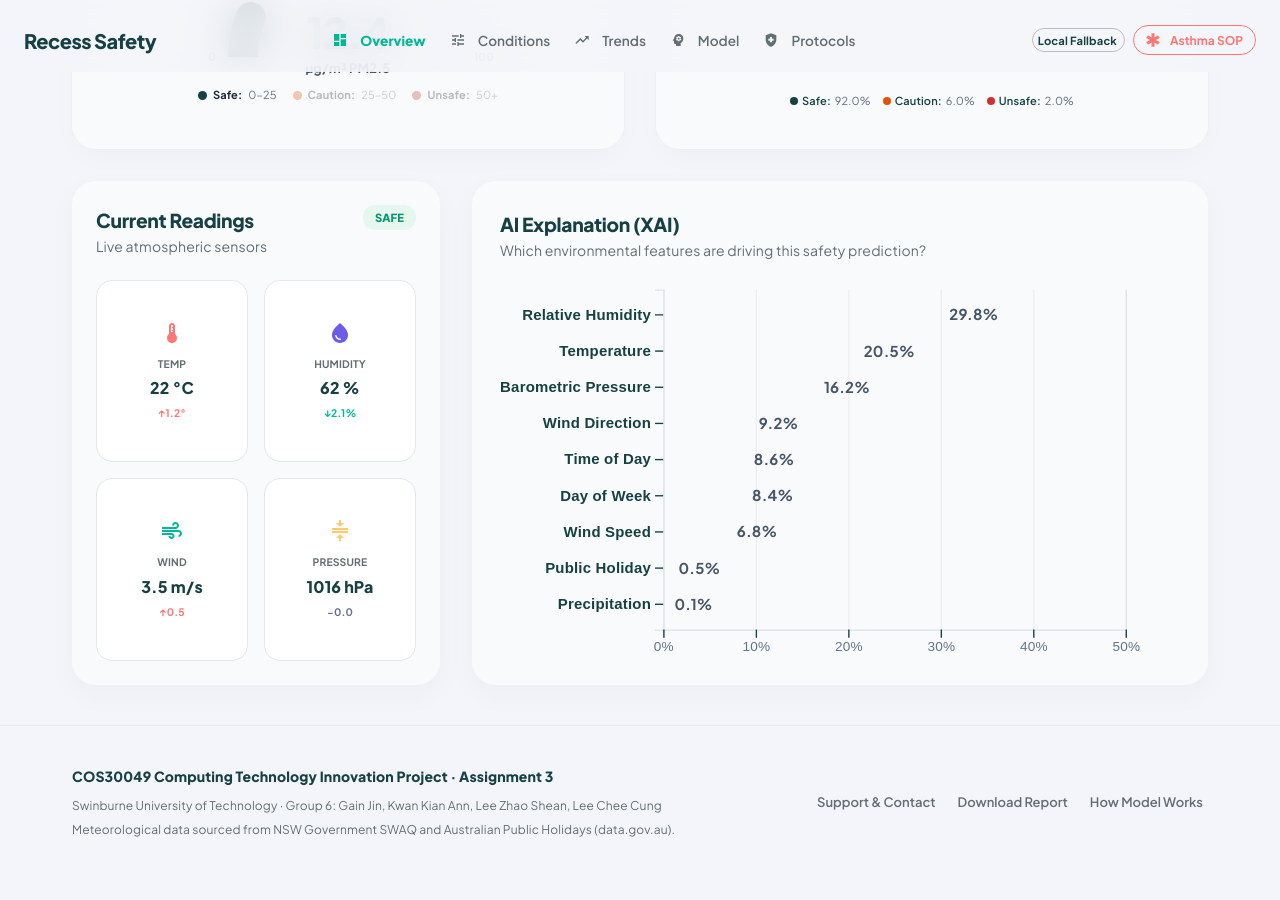
Test: Recess Safety Advisor - Frontend Integration Tests › opens Health Officer Contact dialog, validates fields, and submits inquiry
This screenshot has width=1280, height=900.
(page scrolled)
Click the button "Support & Contact".
click(876, 803)  # box [812, 787, 941, 818]
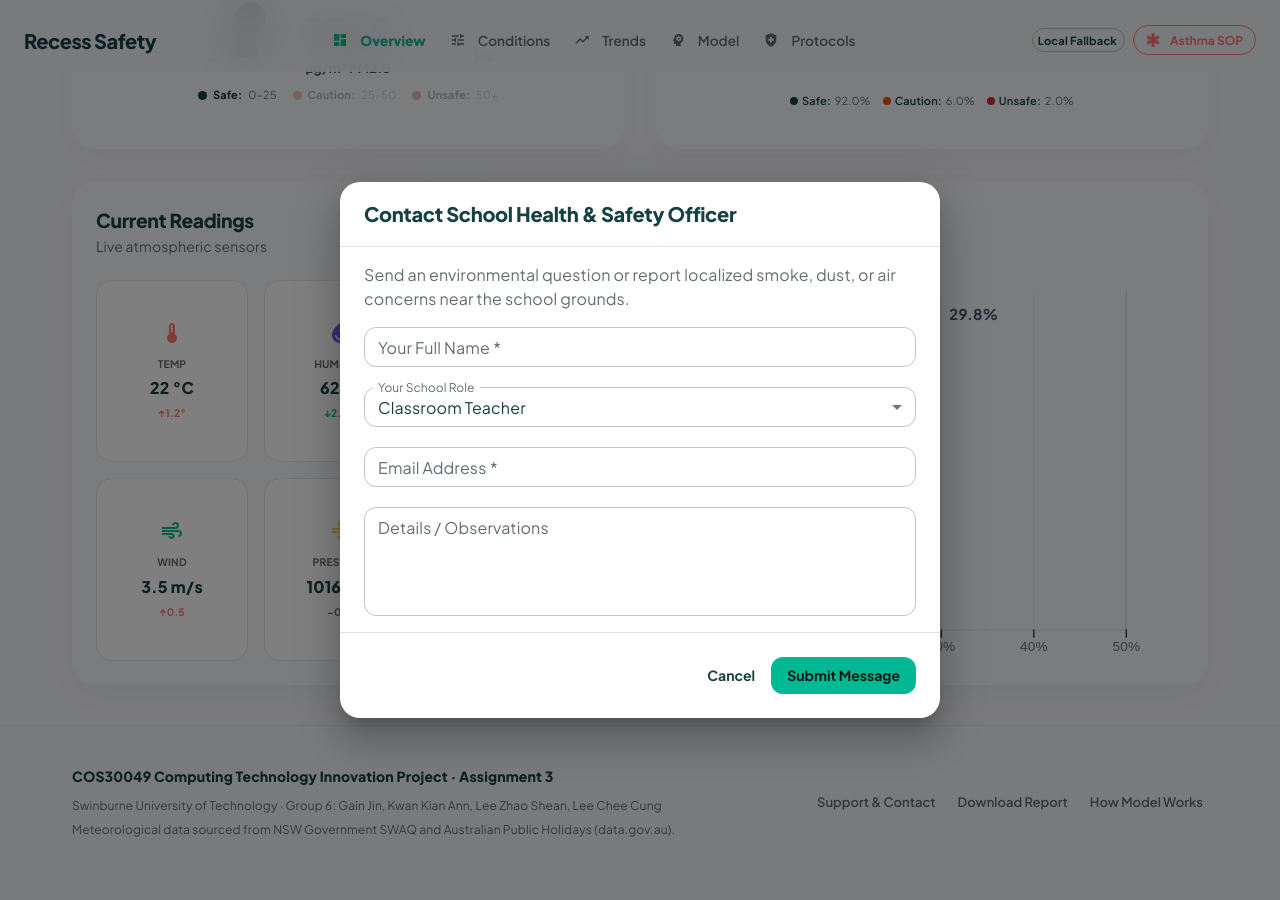
Expected: the text "Contact School Health & Safety Officer" is shown, [364, 198, 736, 230]
// Trigger validation by clicking submit with empty fields
Click the button "Submit Message".
click(844, 676)  # box [771, 657, 916, 694]
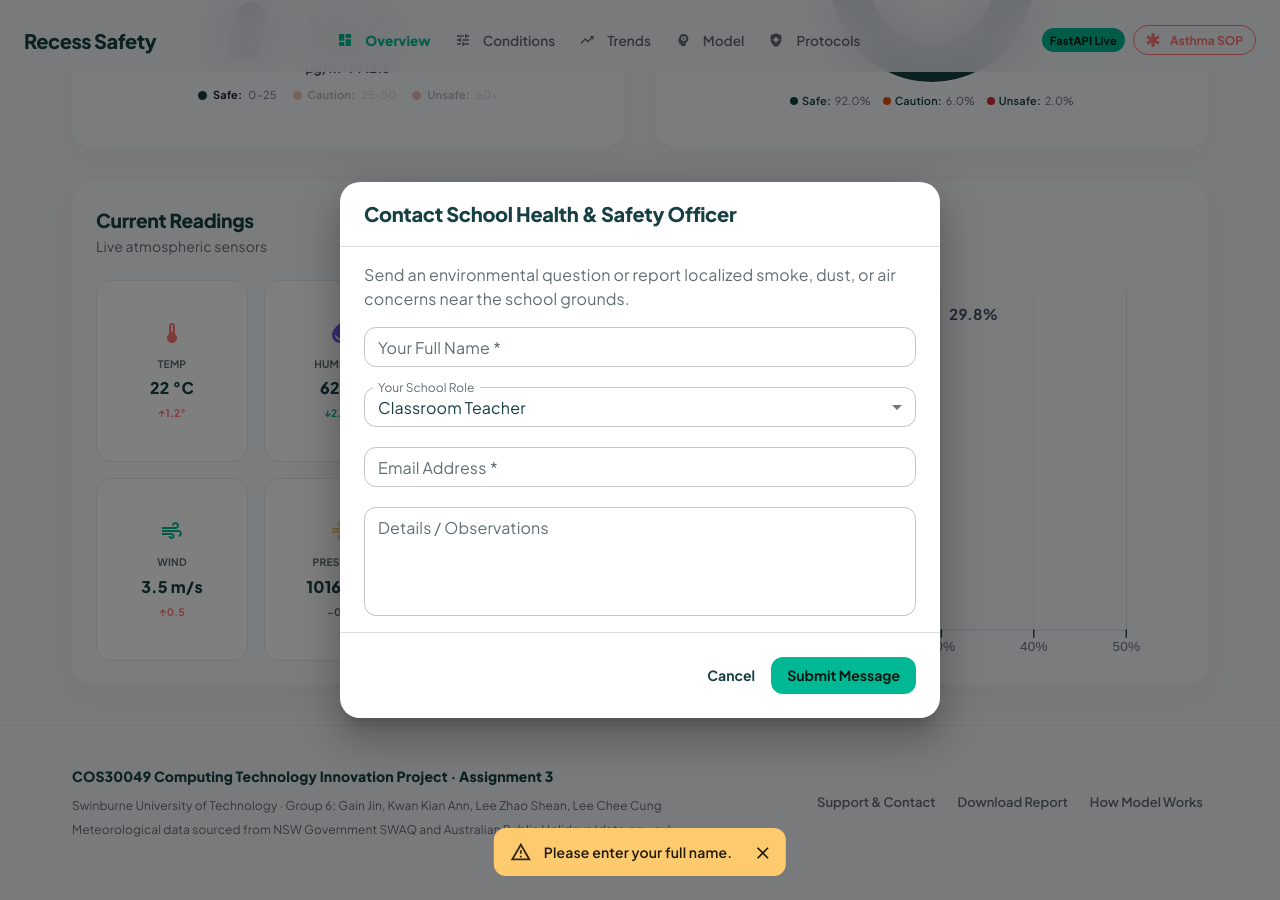
Expected: the text "Please enter your full name." is shown, [544, 843, 732, 861]
// Fill valid data and submit
Type "Officer Mike" into the field labelled "Your Full Name *".
click(640, 347); type("Officer Mike")  # box [364, 327, 916, 367]
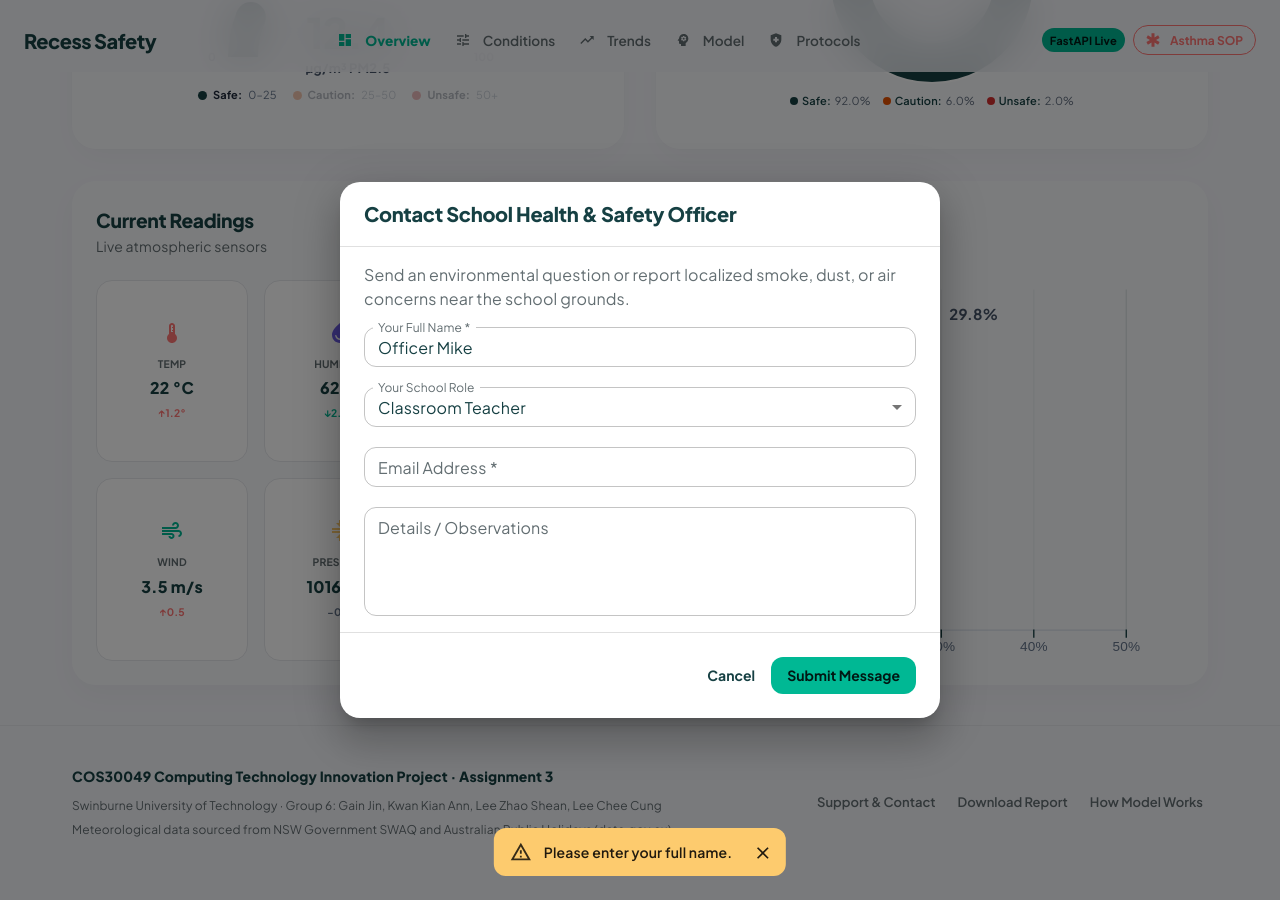
Type "mike@school.nsw.edu.au" into the field labelled "Email Address *".
click(640, 467); type("mike@school.nsw.edu.au")  # box [364, 447, 916, 487]
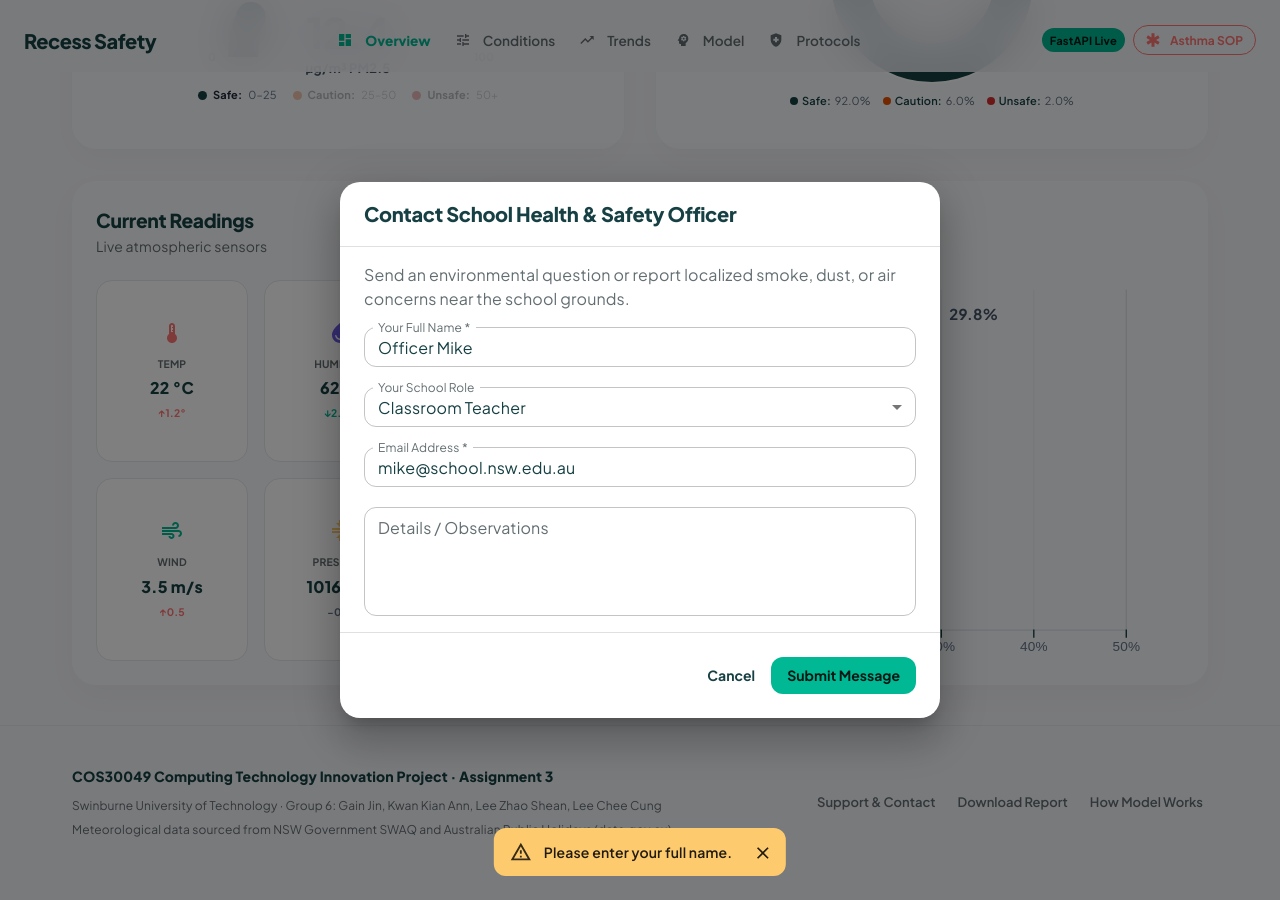
Replace the text in the text box labelled "Details / Observations" with "Oval air quality verified." at point(640, 562), box [378, 516, 902, 608]
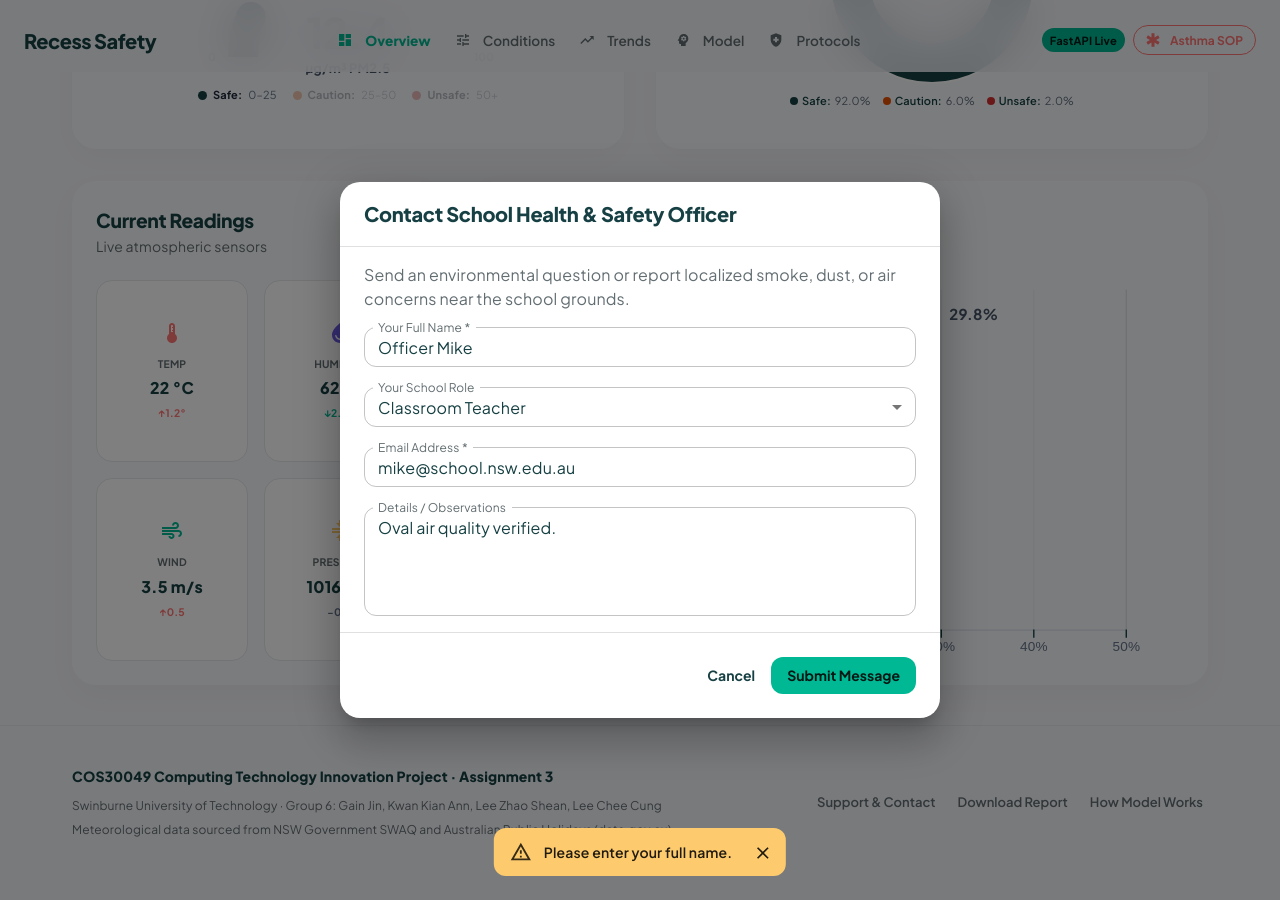
Click the button "Submit Message".
click(844, 676)  # box [771, 657, 916, 694]
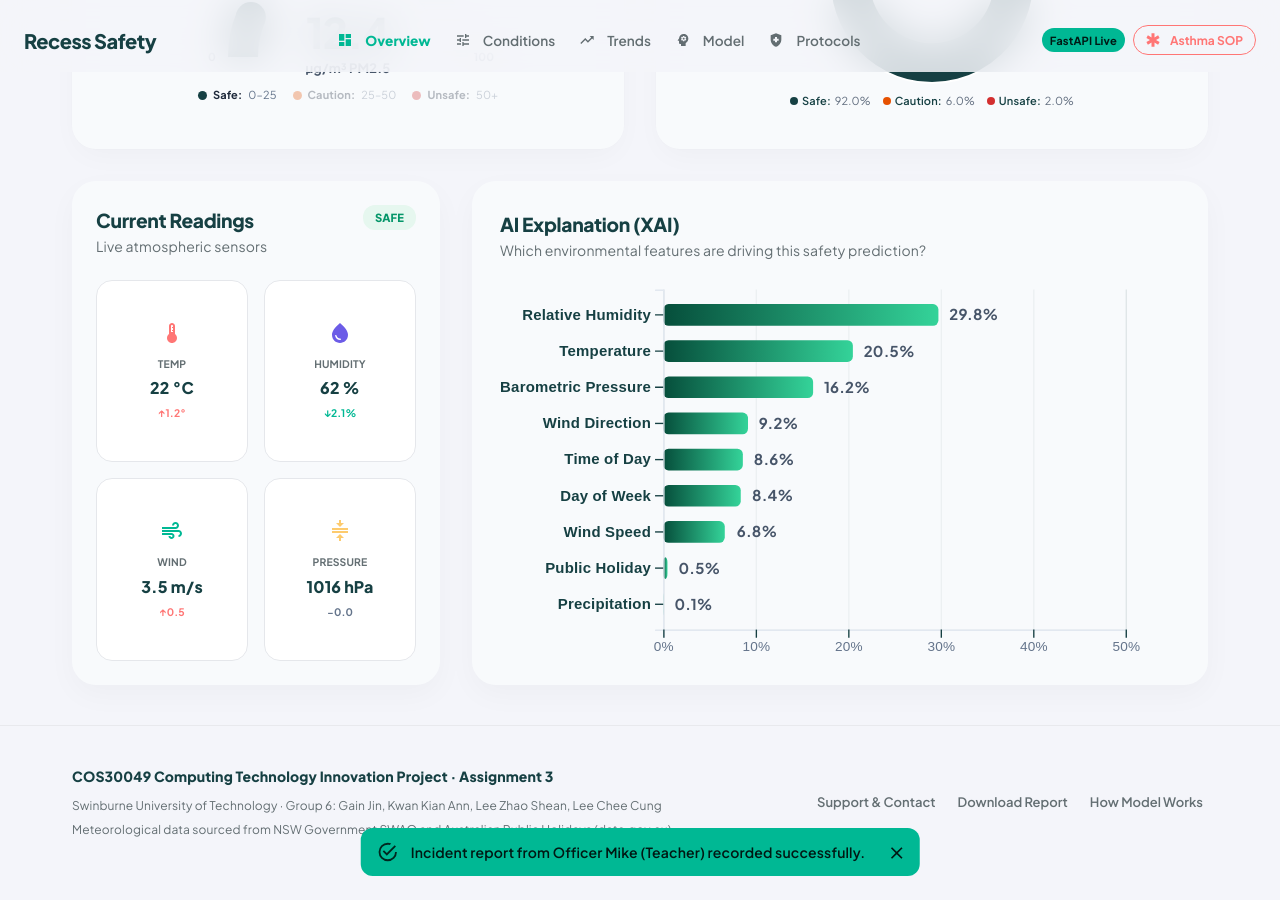
Expected: the text "Incident report from Officer Mike" is shown, [411, 843, 865, 861]
